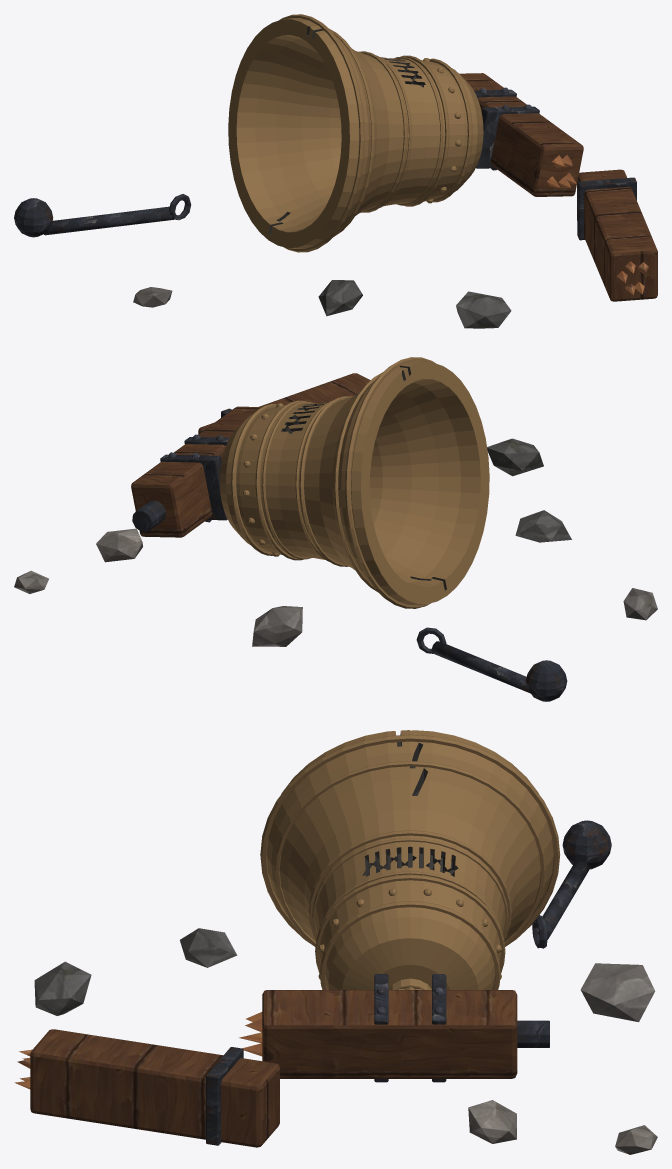
Rendered from rt_fallen_bell.glb.
The picture shows the model from 3 angles, top to bottom: view 1: azimuth 30°, elevation 25°; view 2: azimuth 150°, elevation 25°; view 3: azimuth 270°, elevation 25°; orthographic projection. The views are drawn at different scales.
Parts seen in each view (by area): view 1: model; view 2: model; view 3: model.
Boxes of the visible parts, x1,y1,x2,y2 form: model: (14, 14, 657, 328); model: (14, 357, 657, 701); model: (14, 730, 657, 1154).
Bounding box in the file's own units: 1.76 × 0.713 × 1.57.
9 materials, 7 textured.
